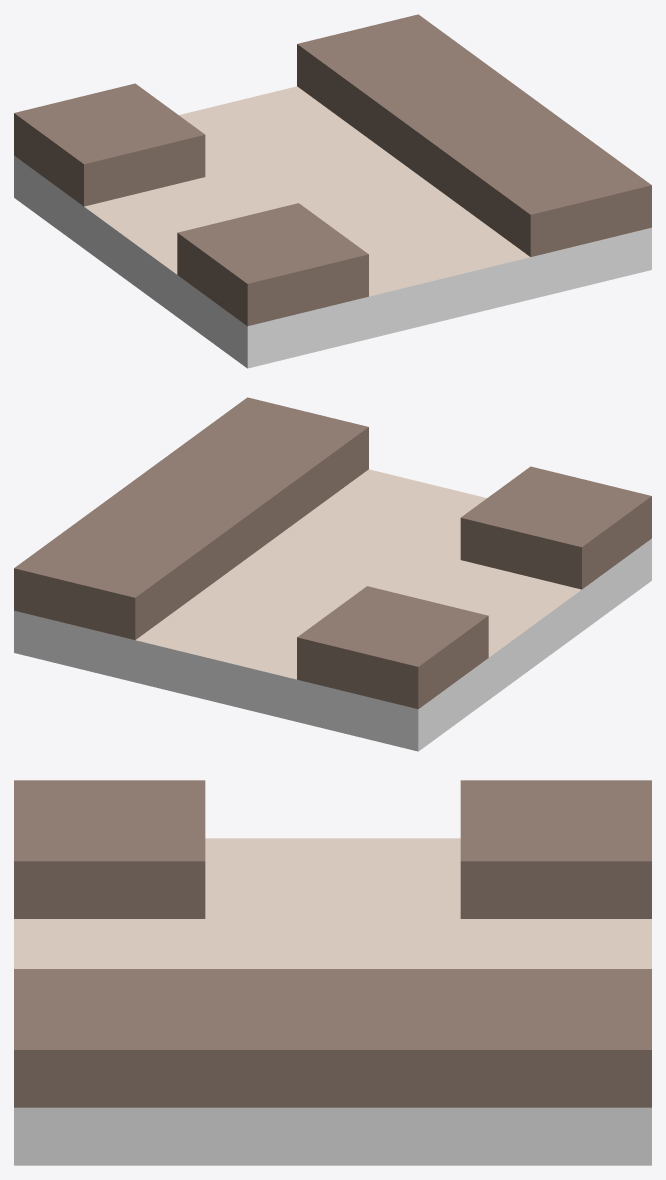
File: oTile2-transformed.glb
3 views of the same model, one above another, from view 1: azimuth 30°, elevation 25°; view 2: azimuth 150°, elevation 25°; view 3: azimuth 270°, elevation 25° (orthographic). The views are drawn at different scales.
Visible parts, largest first — view 1: flor_tile; view 2: flor_tile; view 3: flor_tile.
Part boxes in pixels (x1,y1,x2,y2): flor_tile: (14,14,651,368); flor_tile: (14,397,651,751); flor_tile: (14,780,651,1165).
Size of the model in its own units: 2 by 0.4 by 2.
